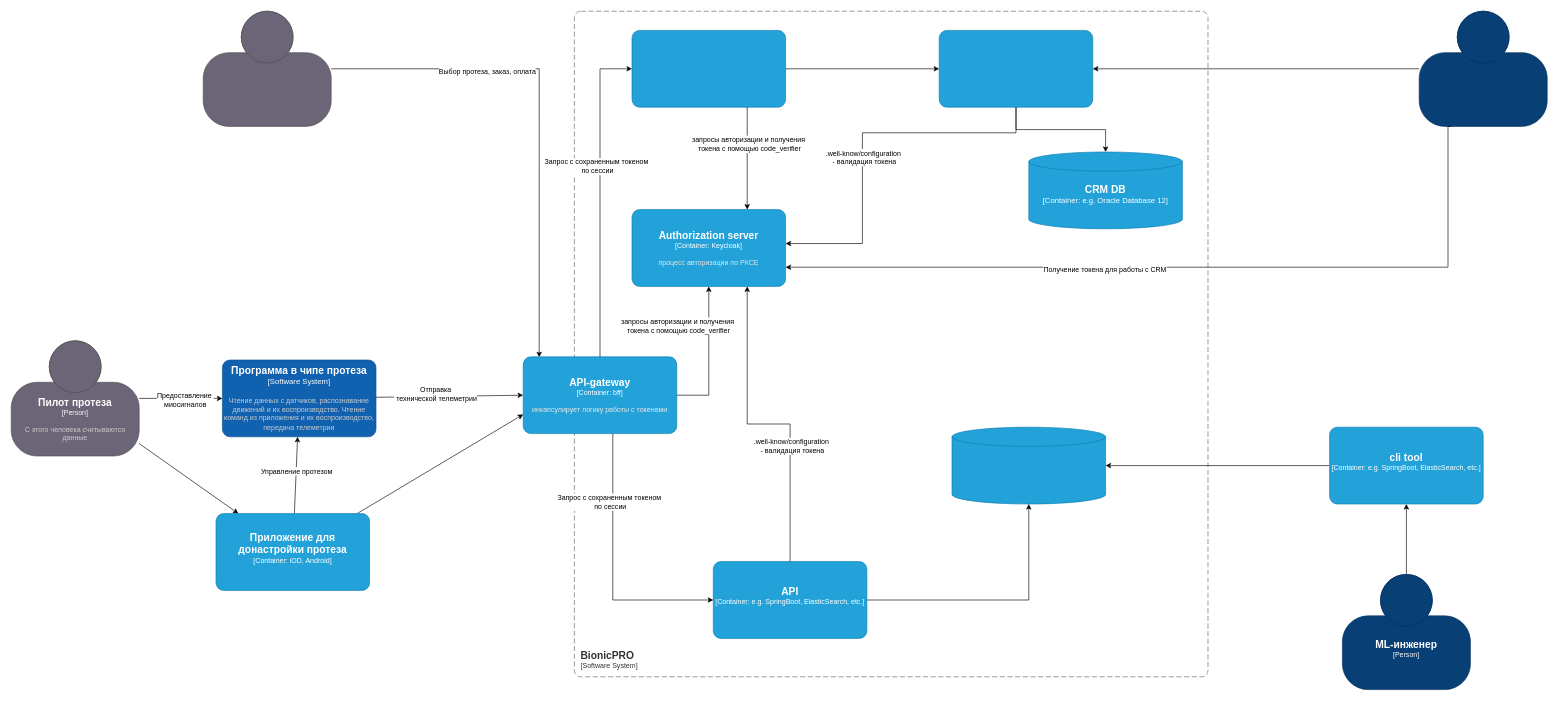
The diagram is 1558 pixels wide and 701 high, and some of its shapes have lost their labels. The shapes that lost their labels are listed below. From the top down, each one's centre as x and y in pixels, then its label:
At [267,68]: "Покупатель протеза [Person]".
At [708,68]: "Интернет-магазин [Container: Битрикс24]".
At [1016,68]: "CRM [Container: Битрикс24]".
At [1483,68]: "Оператор производства [Person]".
At [1028,465]: "База данных [Container: PostgreSQL]".
